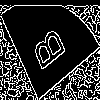B: (25, 25, 67, 78)
